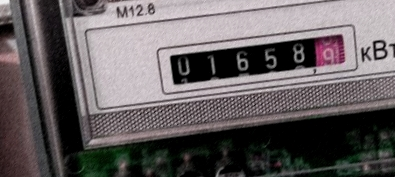0: (176, 54, 192, 78)
1: (206, 53, 219, 76)
5: (262, 46, 279, 70)
6: (233, 49, 250, 72)
8: (290, 41, 307, 64)
9: (319, 46, 336, 68)
screen: (150, 15, 368, 104)
